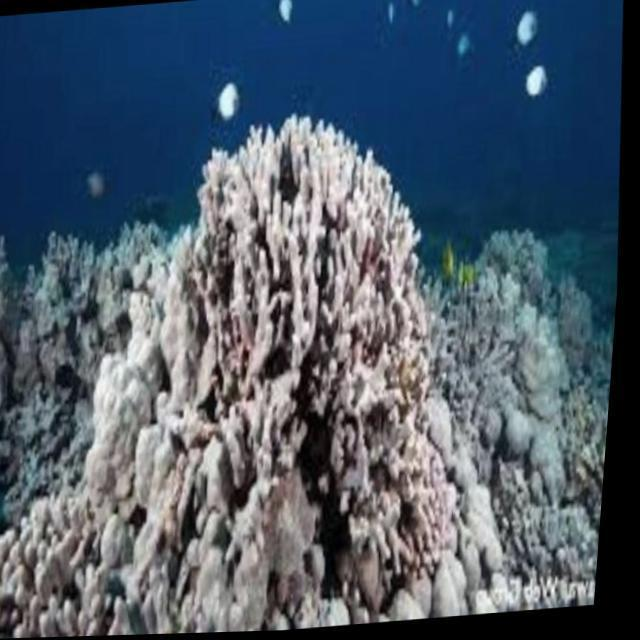Dead Coral: (0, 87, 547, 604)
